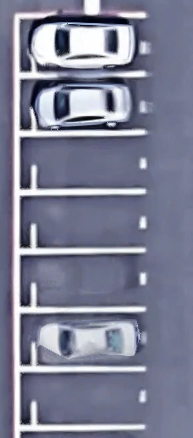Occupied: (17, 15, 144, 74), (18, 310, 144, 369), (16, 75, 143, 133)
Vacant: (16, 191, 144, 250), (16, 251, 144, 310), (16, 132, 143, 191), (18, 370, 143, 427)
